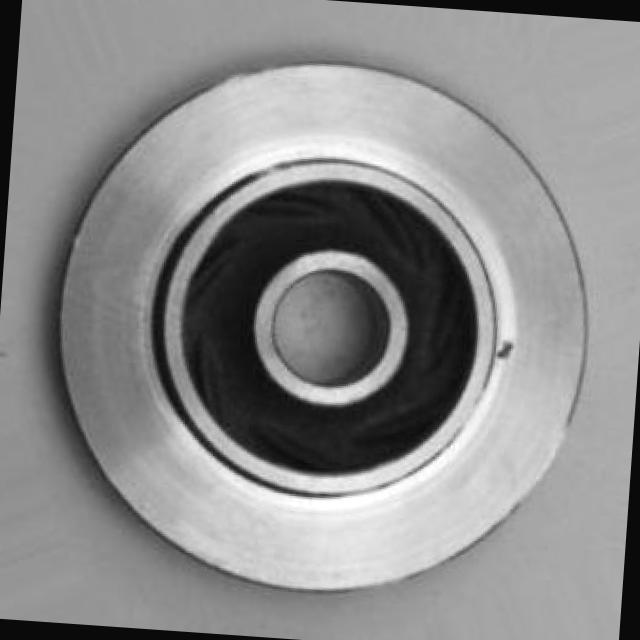Defect: (491, 330, 518, 364)
